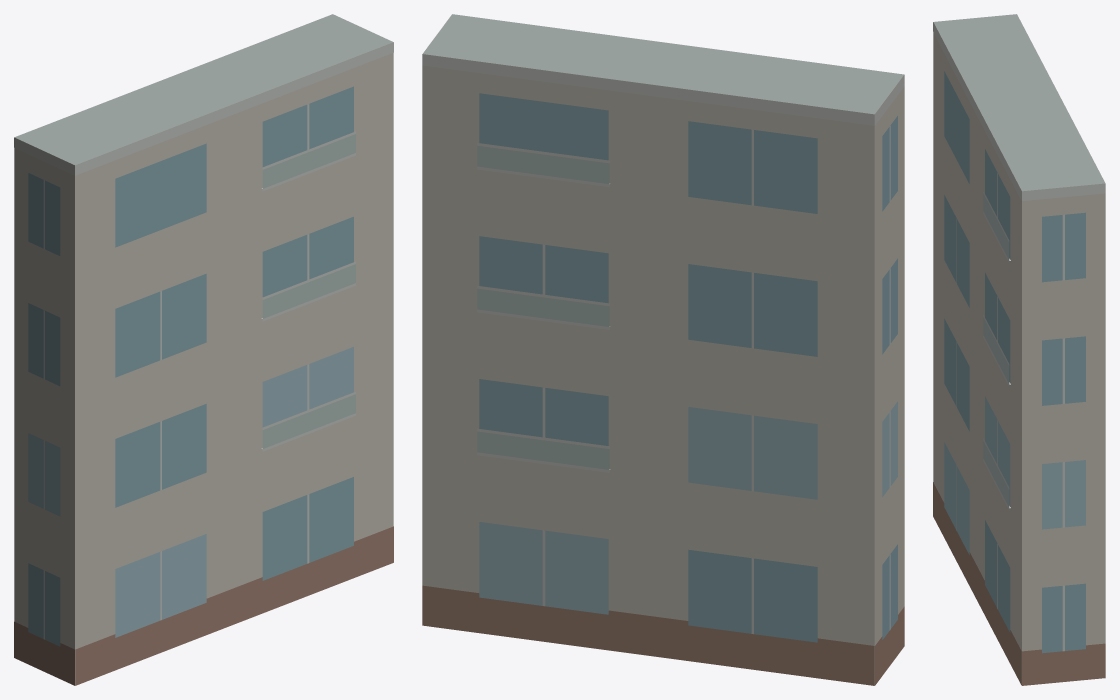
File: residential-dd9c9580-a4ca-460f-b5e5-215c7c3b2d4f.glb
3 views of the same model, side by side, from view 1: azimuth 30°, elevation 25°; view 2: azimuth 150°, elevation 25°; view 3: azimuth 270°, elevation 25° (orthographic). The views are drawn at different scales.
Parts seen in each view (by area): view 1: residential-dd9c9580-a4ca-460f-b5e5-215c7c3b2d4f.tmp; view 2: residential-dd9c9580-a4ca-460f-b5e5-215c7c3b2d4f.tmp; view 3: residential-dd9c9580-a4ca-460f-b5e5-215c7c3b2d4f.tmp.
Part boxes in pixels (x1,y1,x2,y2): residential-dd9c9580-a4ca-460f-b5e5-215c7c3b2d4f.tmp: (14, 14, 393, 685); residential-dd9c9580-a4ca-460f-b5e5-215c7c3b2d4f.tmp: (422, 14, 904, 685); residential-dd9c9580-a4ca-460f-b5e5-215c7c3b2d4f.tmp: (933, 14, 1105, 685).
Size of the model in its own units: 9.39 by 12.2 by 3.86.
